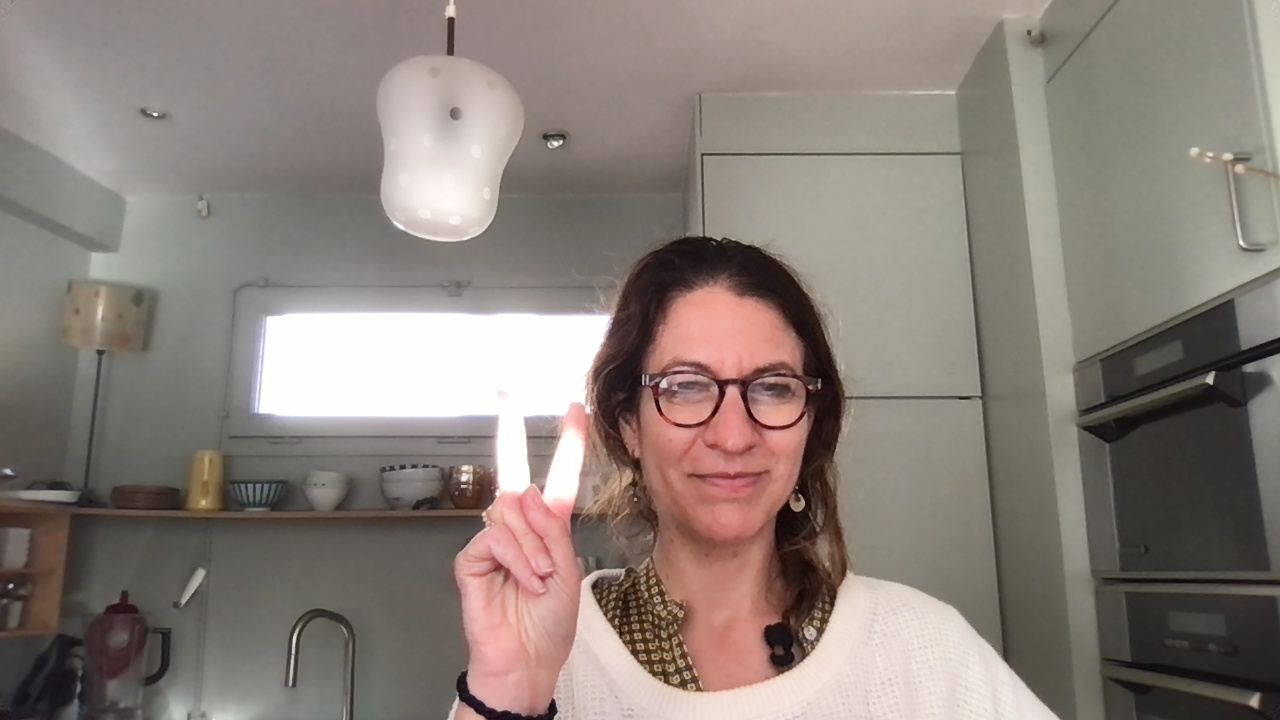peace: (451, 389, 589, 686)
